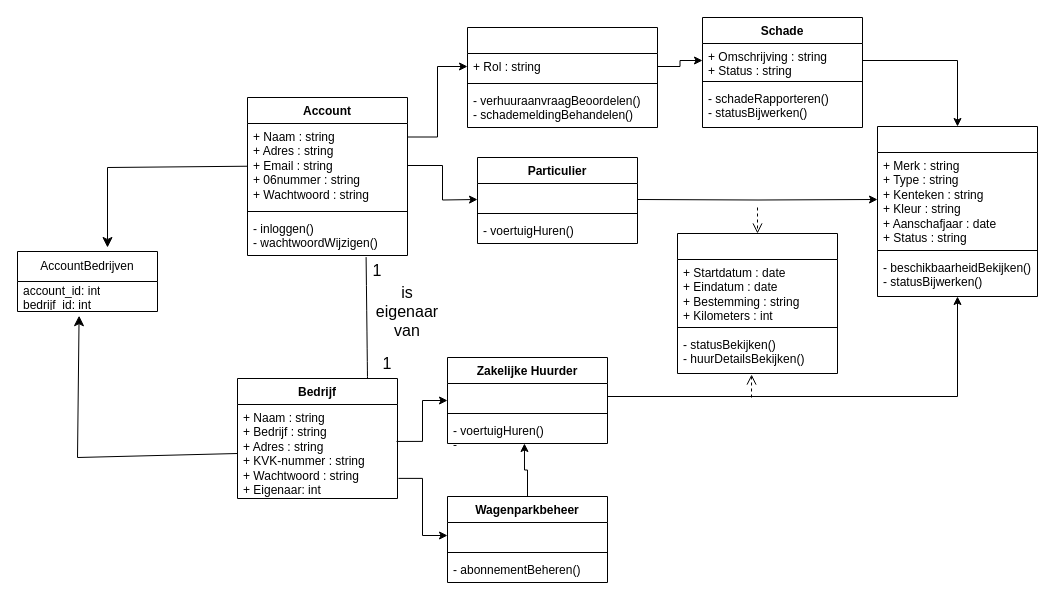
Image size: 1055x603. Some labels were removed from this diagram. Each missing label, with the box of its shape:
Medewerker: (466, 26, 658, 128)
Verhuur Aanvraag: (676, 232, 838, 374)
Voertuig: (876, 126, 1038, 296)
